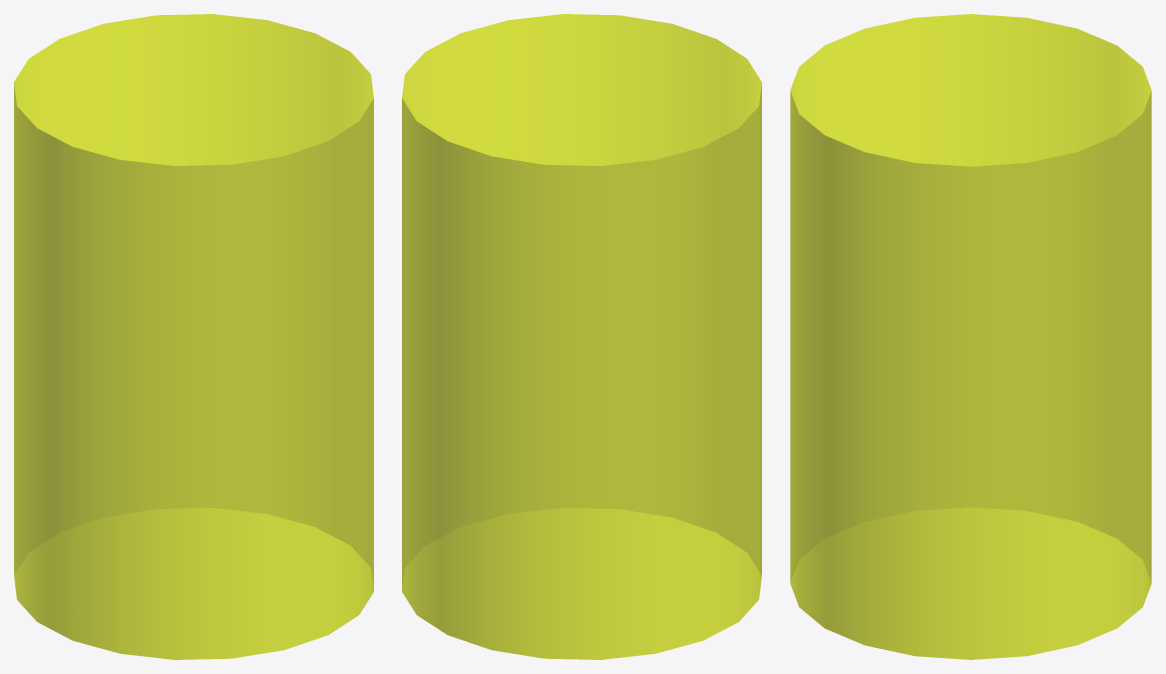
3 views of the same model, side by side, from view 1: azimuth 30°, elevation 25°; view 2: azimuth 150°, elevation 25°; view 3: azimuth 270°, elevation 25° (orthographic).
Parts seen in each view (by area): view 1: pCylinder1; view 2: pCylinder1; view 3: pCylinder1.
Boxes of the visible parts, x1,y1,x2,y2 form: pCylinder1: (14,14,373,659); pCylinder1: (402,14,761,659); pCylinder1: (790,14,1151,659).
Bounding box in the file's own units: 2 × 3.01 × 2.
